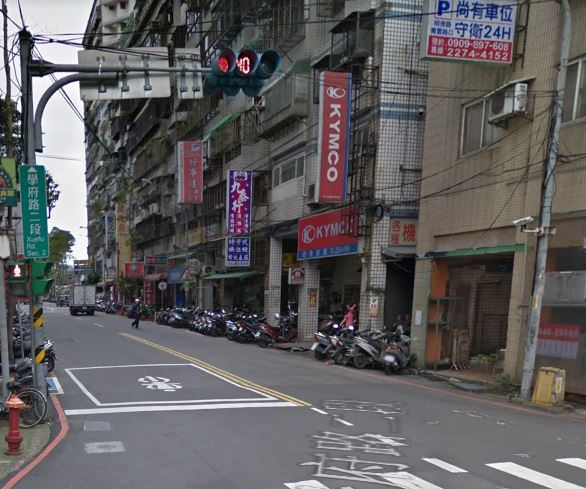Traffic_light_red: (207, 47, 280, 82)
